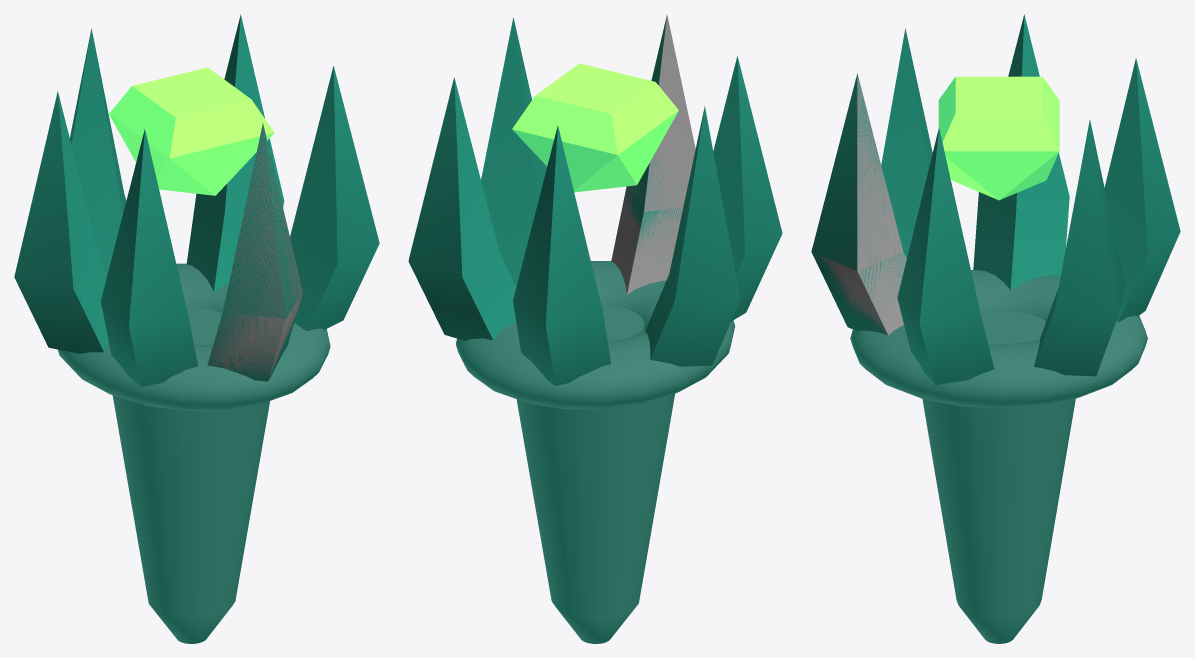
The model's file is prop_torch_alexius.fbx.
3 views of the same model, side by side, from view 1: azimuth 30°, elevation 25°; view 2: azimuth 150°, elevation 25°; view 3: azimuth 270°, elevation 25° (orthographic).
Parts seen in each view (by area): view 1: pPyramid9, pTorus2, pPyramid8, pPyramid2; view 2: pPyramid9, pTorus2, pPyramid8, pPyramid2; view 3: pPyramid9, pTorus2, pPyramid8, pPyramid2.
Part boxes in pixels (left/top/right/bottom): pPyramid9: left=14, top=14, right=379, bottom=386; pTorus2: left=58, top=263, right=330, bottom=643; pPyramid8: left=109, top=67, right=274, bottom=195; pPyramid2: left=208, top=125, right=302, bottom=379; pPyramid9: left=408, top=15, right=782, bottom=385; pTorus2: left=456, top=261, right=735, bottom=643; pPyramid8: left=512, top=63, right=678, bottom=192; pPyramid2: left=611, top=14, right=695, bottom=294; pPyramid9: left=811, top=14, right=1180, bottom=384; pTorus2: left=850, top=270, right=1147, bottom=643; pPyramid8: left=938, top=76, right=1059, bottom=200; pPyramid2: left=816, top=73, right=906, bottom=335.
Bounding box in the file's own units: 2.67 × 4.68 × 2.78.
